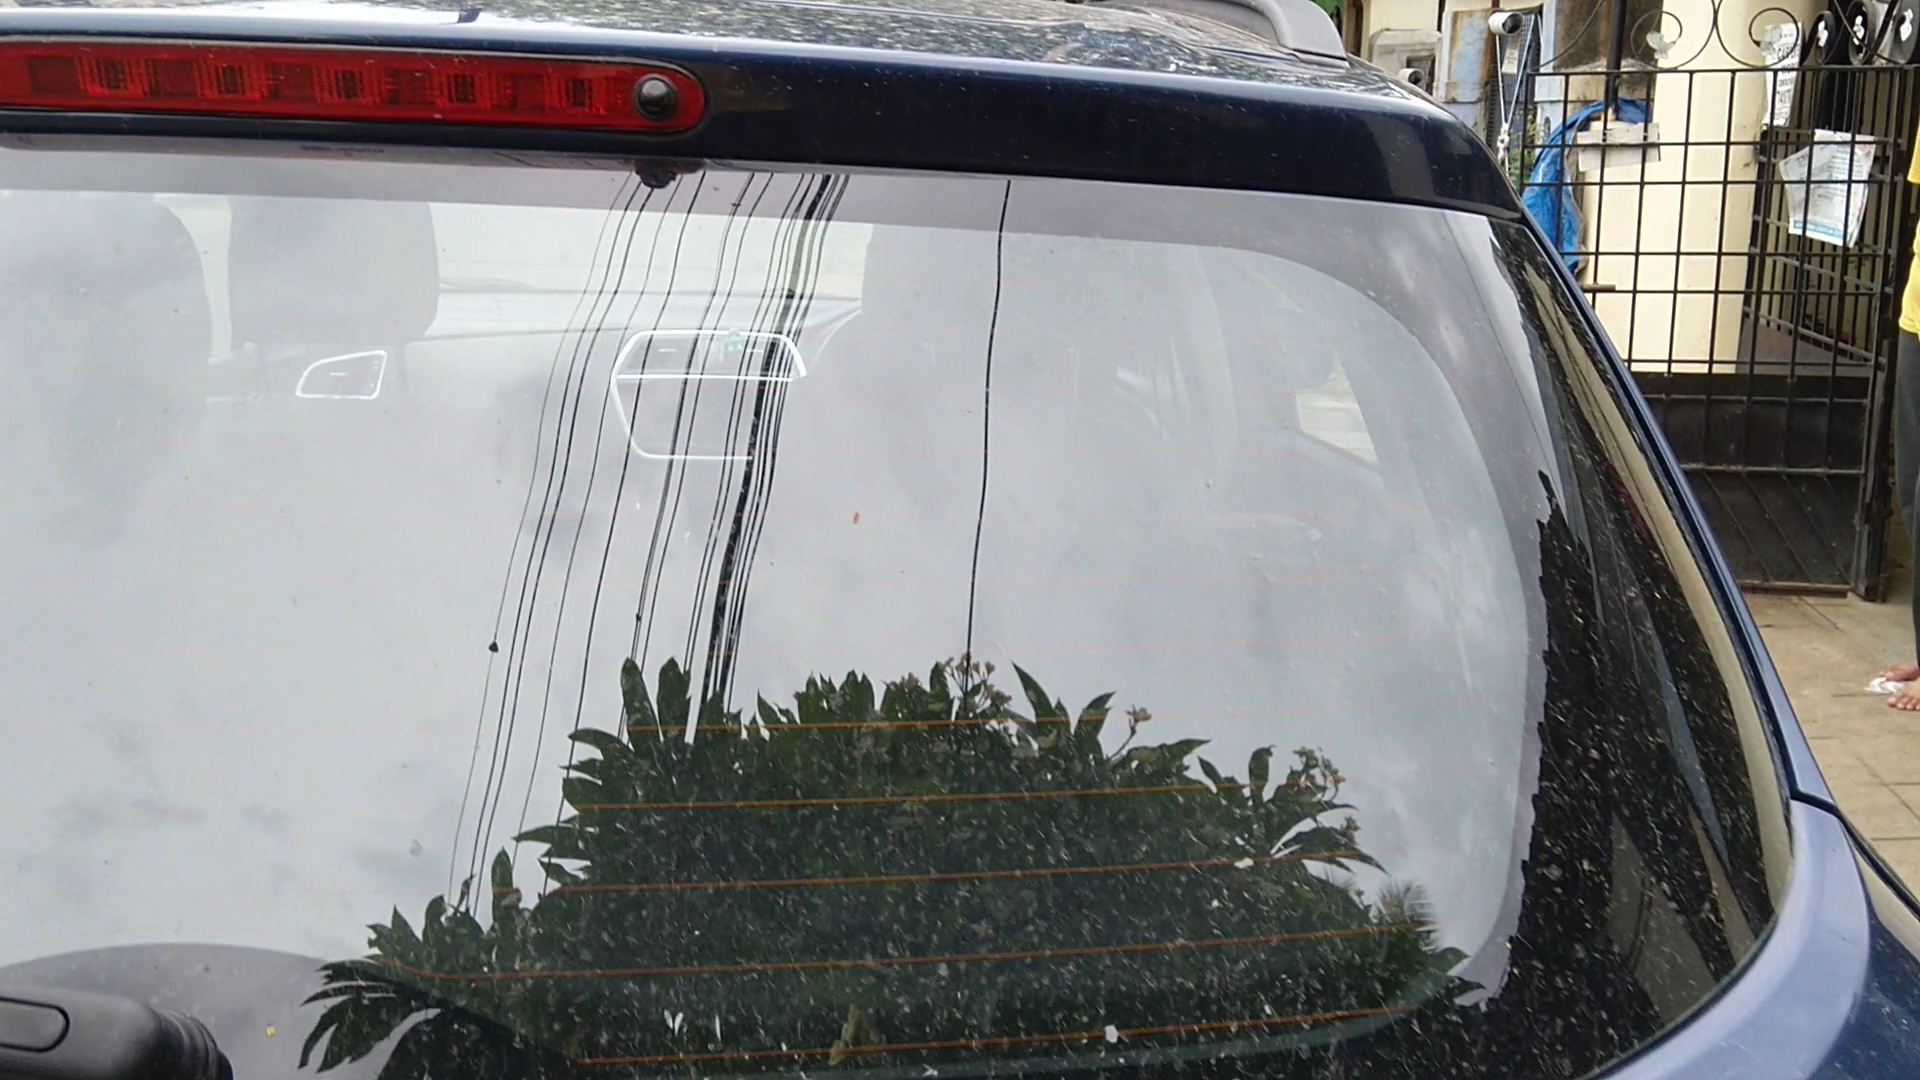rear_camera: (620, 51, 703, 137)
